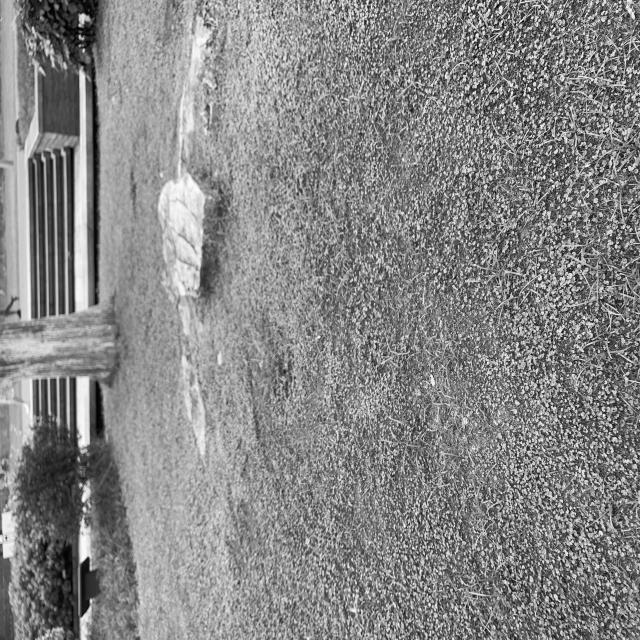Stone: (159, 174, 206, 298)
